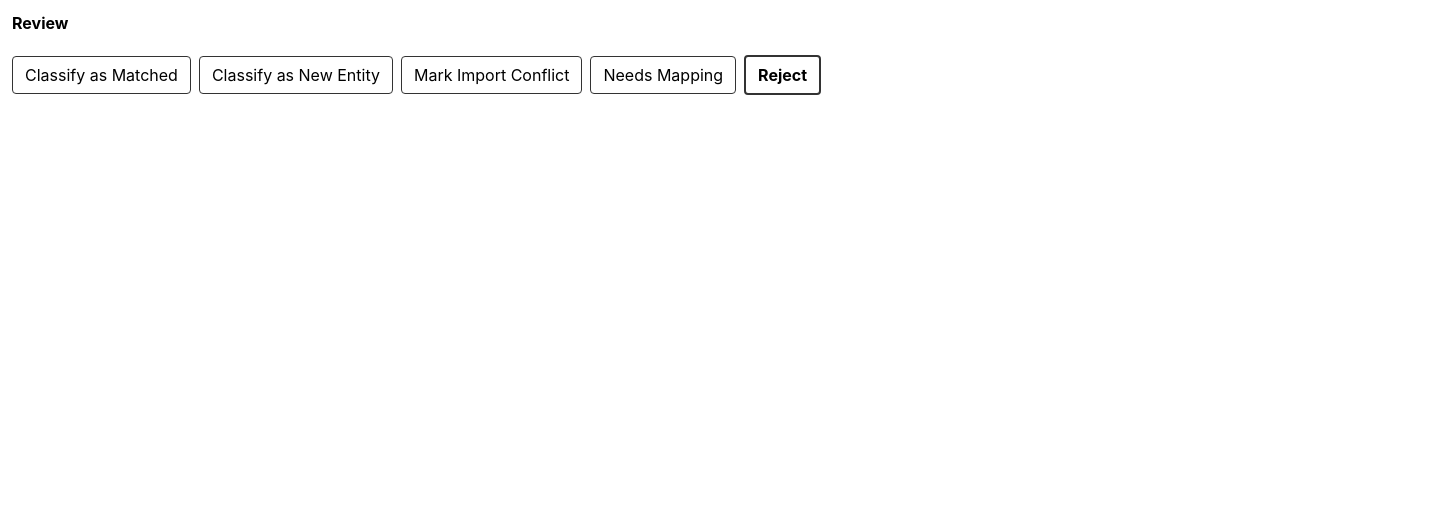
Scenario: decisions › a manual override cannot be submitted without a rationale (no request is sent)
Click the button "Classify as Matched": {"x": 101, "y": 74} [12,56,191,94]
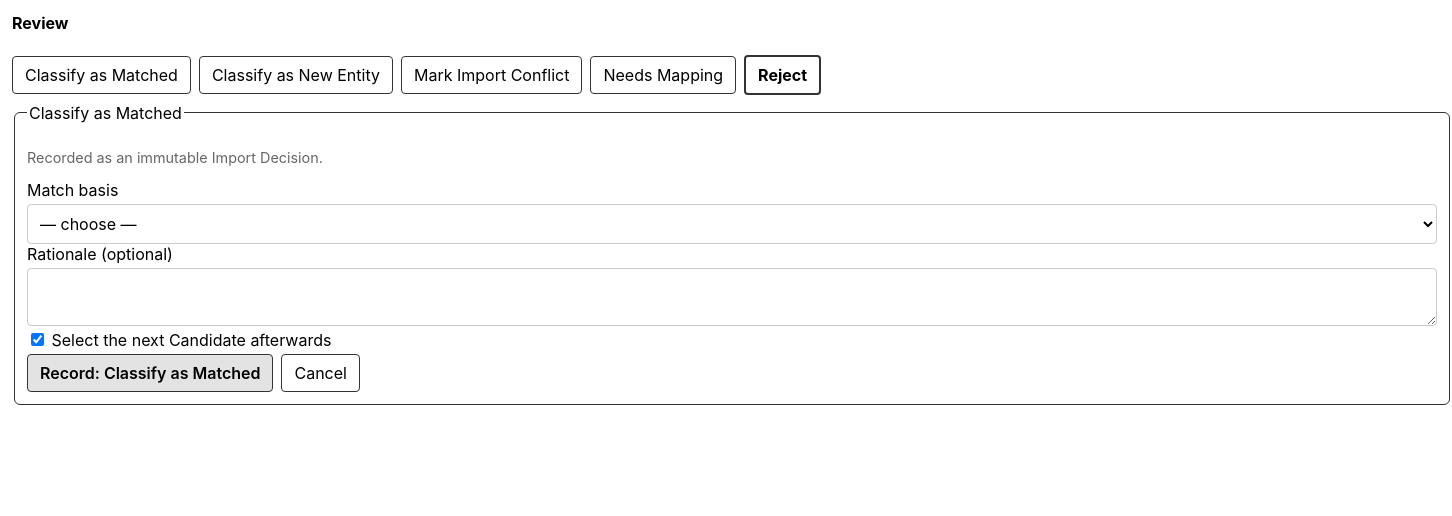
Select "Manual override (another Entity)" in the dropdown labelled "Match basis": {"x": 732, "y": 224} [27,204,1437,244]
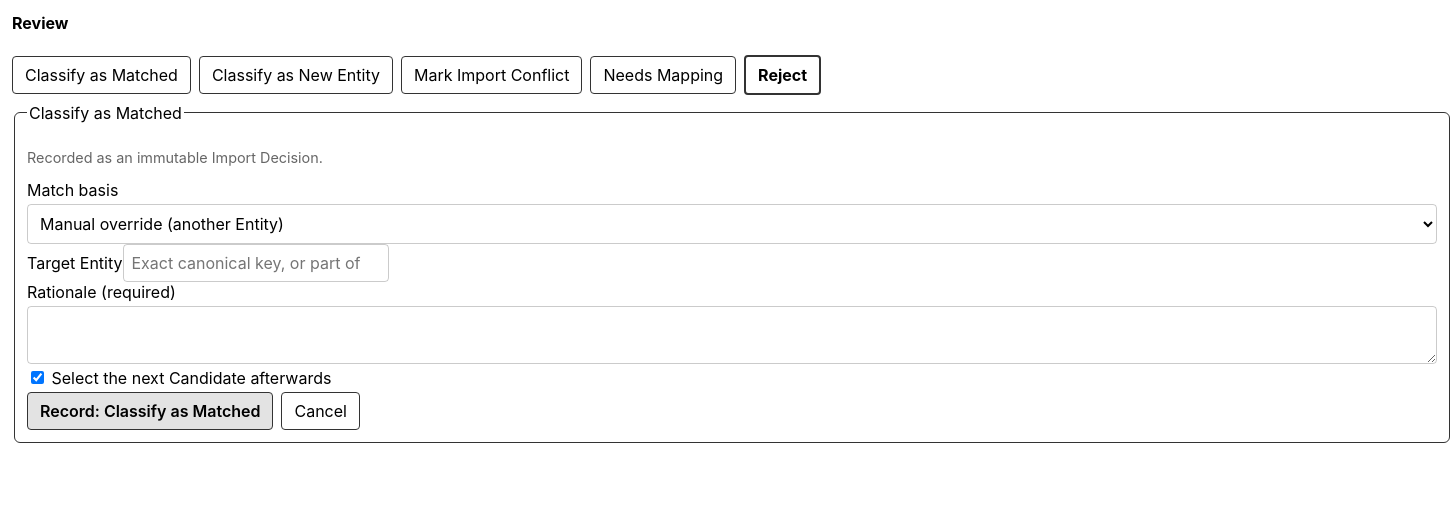
Click the button "Record: Classify as Matched": {"x": 150, "y": 411} [27,392,274,430]
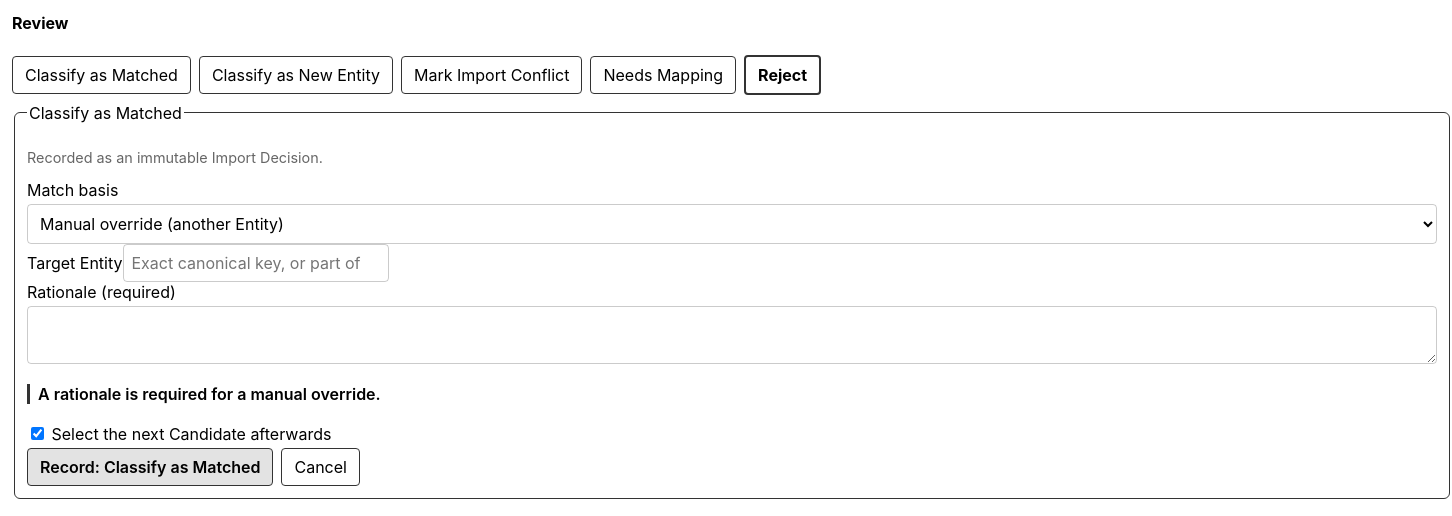
Result: the message reads "A rationale is required for a manual override." at [38,384,381,404]
